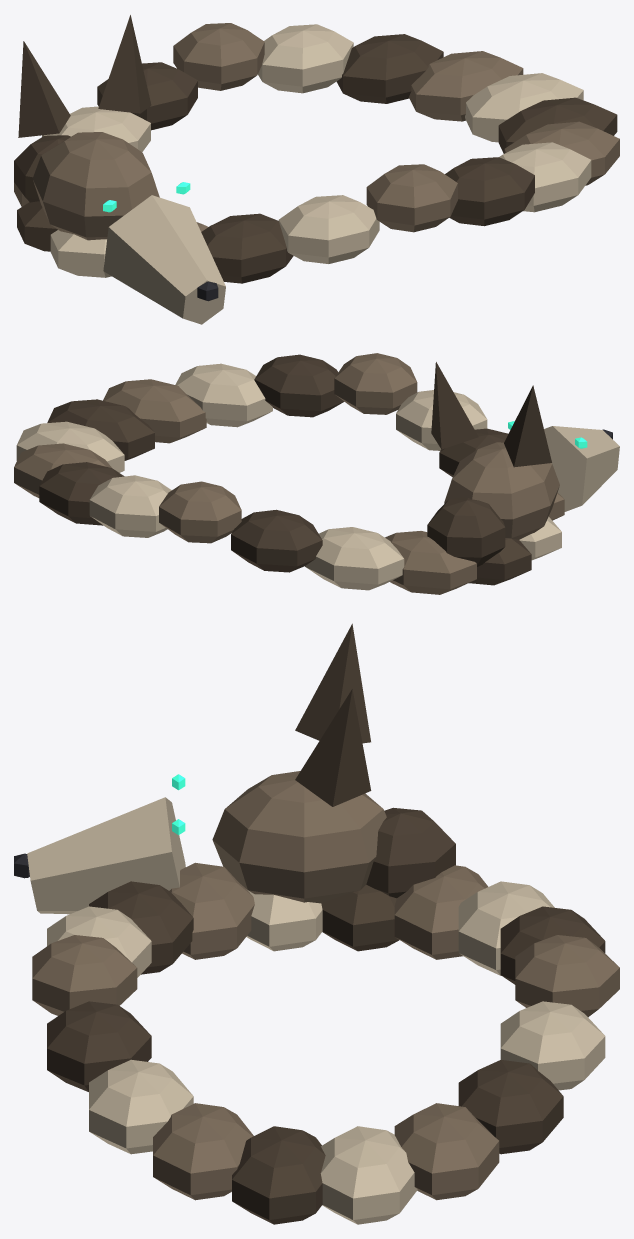
File: shaman_mantle.glb
3 views of the same model, one above another, from view 1: azimuth 30°, elevation 25°; view 2: azimuth 150°, elevation 25°; view 3: azimuth 270°, elevation 25° (orthographic). The views are drawn at different scales.
Visible parts, largest first — view 1: shaman_mantle; view 2: shaman_mantle; view 3: shaman_mantle.
Boxes of the visible parts, box(x1,y1,x2,y2) form: shaman_mantle: box(14, 15, 619, 324); shaman_mantle: box(14, 353, 619, 594); shaman_mantle: box(14, 623, 619, 1224).
Bounding box in the file's own units: 0.8574 × 0.3189 × 0.6276.
